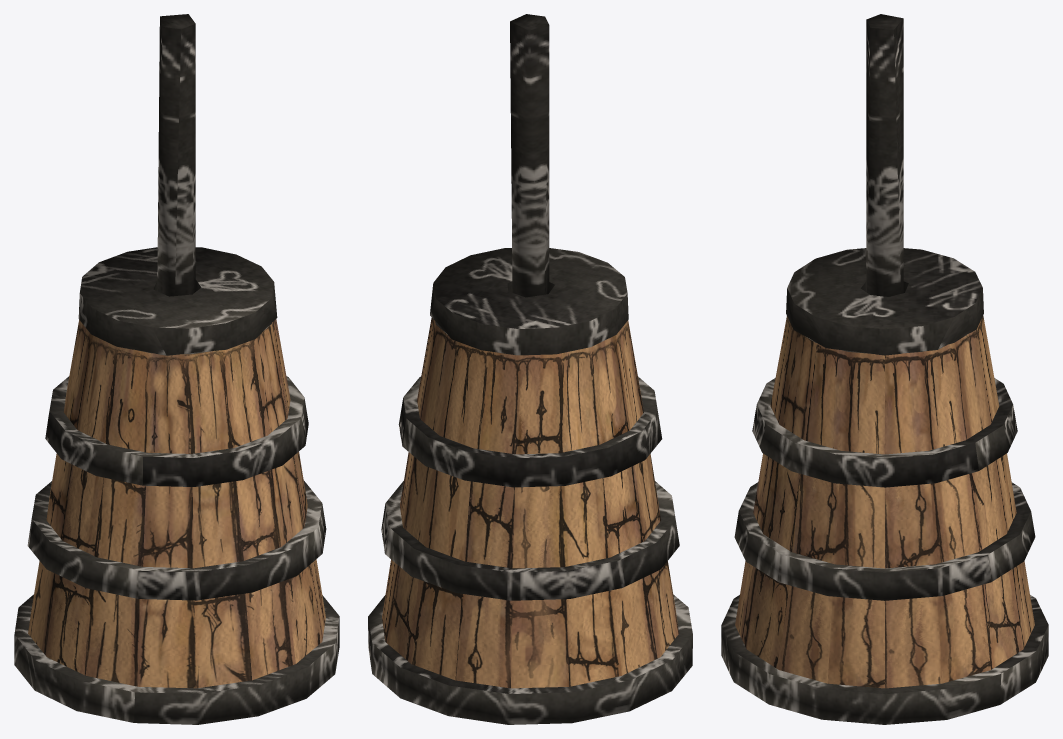
Rendered from churner.glb.
The picture shows the model from 3 angles, left to right: view 1: azimuth 30°, elevation 25°; view 2: azimuth 150°, elevation 25°; view 3: azimuth 270°, elevation 25°; orthographic projection.
Visible parts, largest first — view 1: milk_churner; view 2: milk_churner; view 3: milk_churner.
Part boxes in pixels (x1,y1,x2,y2): milk_churner: [14, 14, 339, 724]; milk_churner: [368, 14, 692, 724]; milk_churner: [721, 14, 1048, 724].
Size of the model in its own units: 0.5426 by 1.16 by 0.5426.
2 materials, 2 textured.
